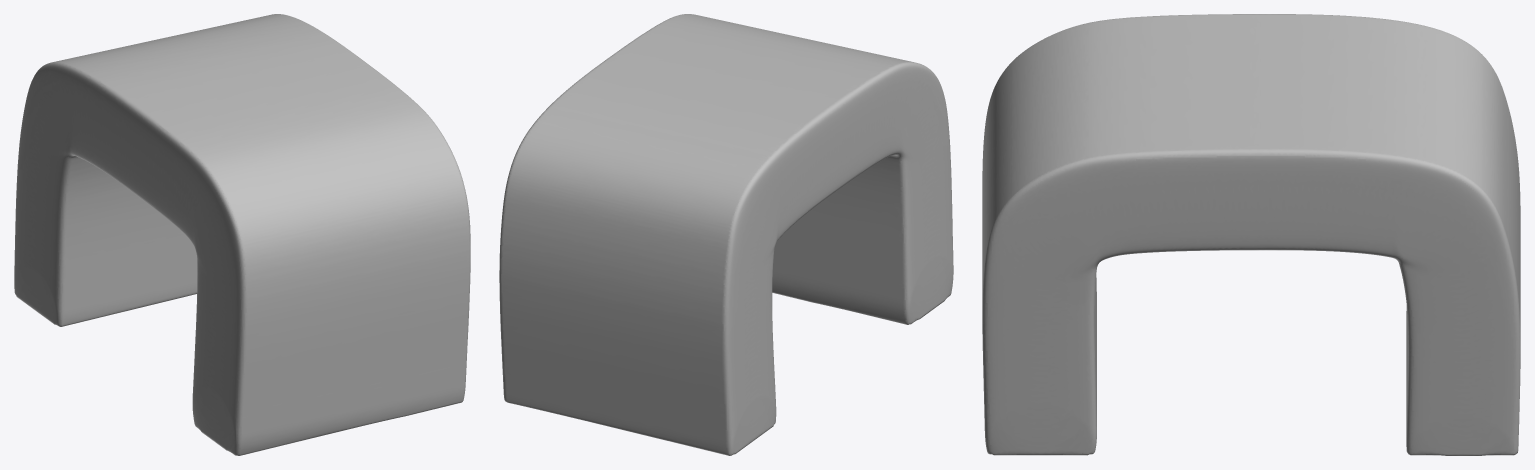
File: curveTable_compressed.glb
3 renders of one model, left to right at view 1: azimuth 30°, elevation 25°; view 2: azimuth 150°, elevation 25°; view 3: azimuth 270°, elevation 25°, orthographic. The views are drawn at different scales.
Bounding box in the file's own units: 87.87 × 93.52 × 144.
1 material, 1 textured.
